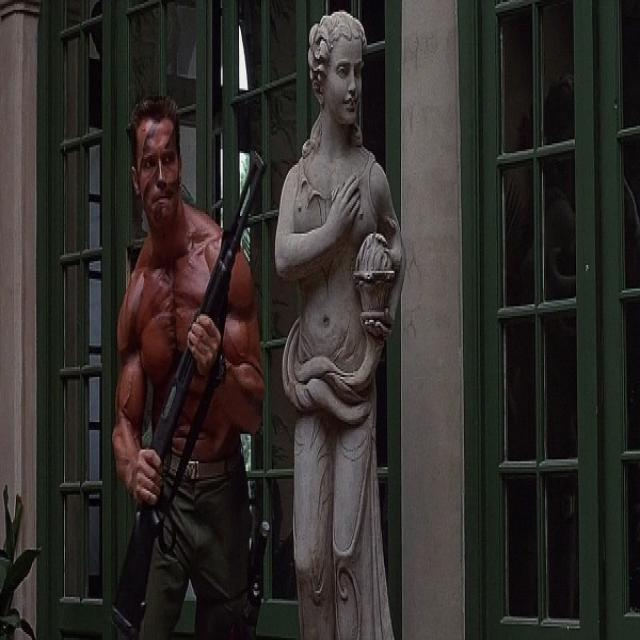rifle: (110, 148, 269, 640)
